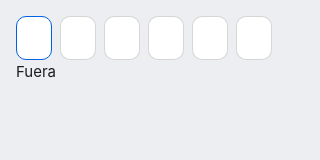
Test: six boxes for a number › takes nothing but digits
Type "1a2b3c" into the field named "Digit 1 of 6" at (34, 38), box [16,16,52,60]
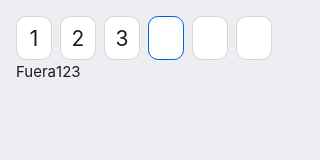
Now the text "123" is shown, box [56,62,80,81]
